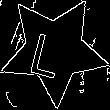L_N: (33, 22, 75, 79)
